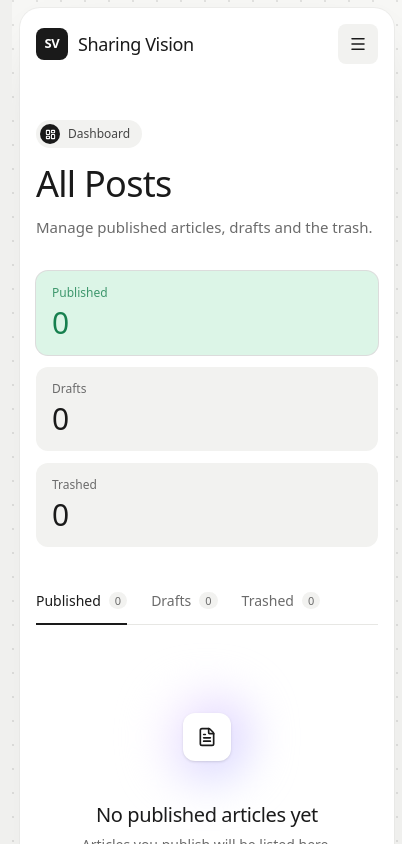
Test: App layout and navigation › opens and closes the mobile menu
What coordinates should you click on to do the following:
click the button named "Open menu"
I would click on:
 (358, 44)
Its box is x1=338 y1=24 x2=378 y2=64.
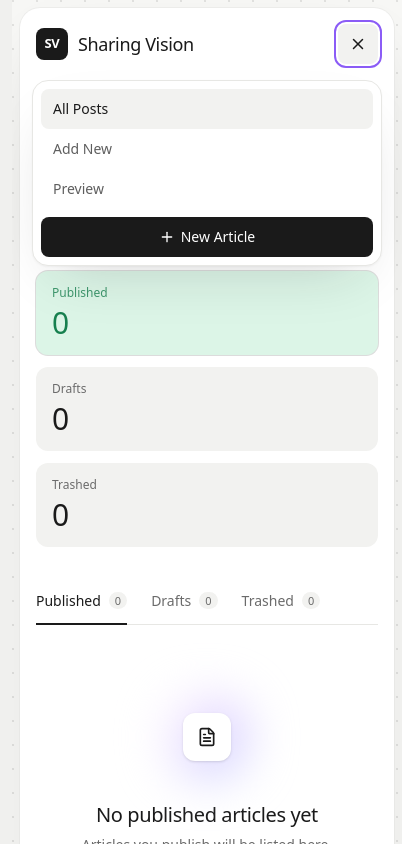
Expected: the button named "Close menu" is expanded, x1=338 y1=24 x2=378 y2=64
What coordinates should you click on to do the following:
click the link "Preview"
I would click on:
 (78, 188)
Its box is x1=53 y1=179 x2=104 y2=198.
(page scrolled)
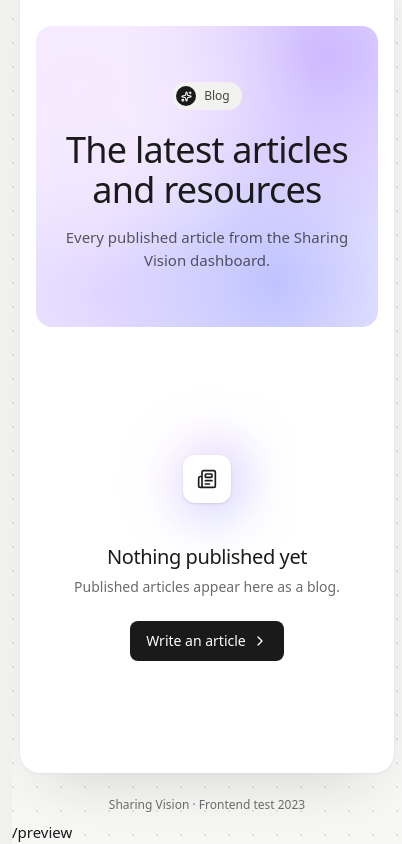
Expected: the text with test id "location" reads "/preview", x1=12 y1=822 x2=72 y2=842
Expected: the navigation bar "Mobile" is gone
